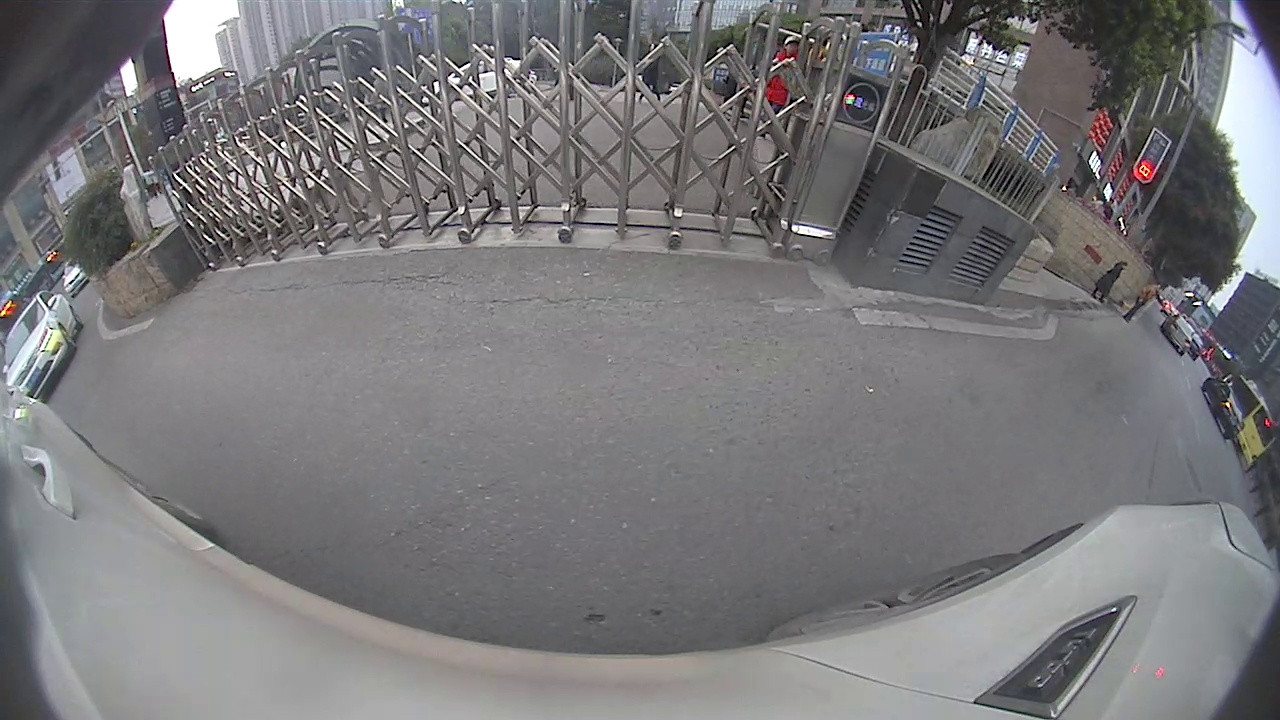car: (2, 290, 86, 403), (1198, 375, 1245, 442), (1163, 310, 1195, 358)
person: (1098, 260, 1130, 305)
